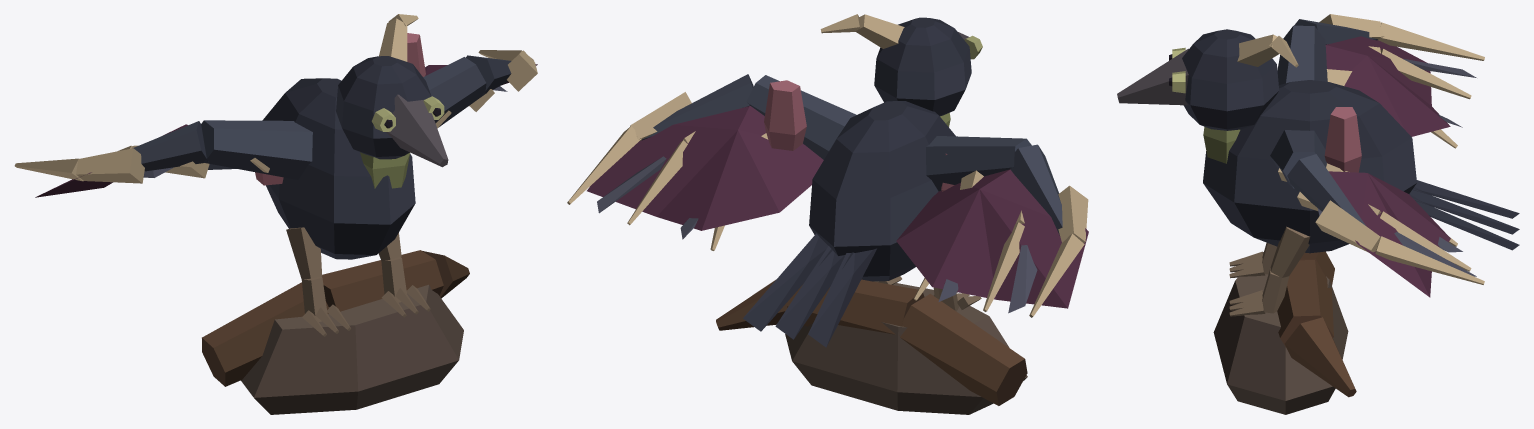
The model's file is marsh-raven-bloomed.glb.
3 renders of one model, left to right at view 1: azimuth 30°, elevation 25°; view 2: azimuth 150°, elevation 25°; view 3: azimuth 270°, elevation 25°, orthographic.
Visible parts, largest first — view 1: Marsh raven · bloomed; view 2: Marsh raven · bloomed; view 3: Marsh raven · bloomed.
Boxes of the visible parts, x1=… form: Marsh raven · bloomed: x1=14, y1=14, x2=537, y2=414; Marsh raven · bloomed: x1=567, y1=14, x2=1088, y2=414; Marsh raven · bloomed: x1=1117, y1=14, x2=1519, y2=414.
Bounding box in the file's own units: 0.96 × 0.6829 × 0.7003.
